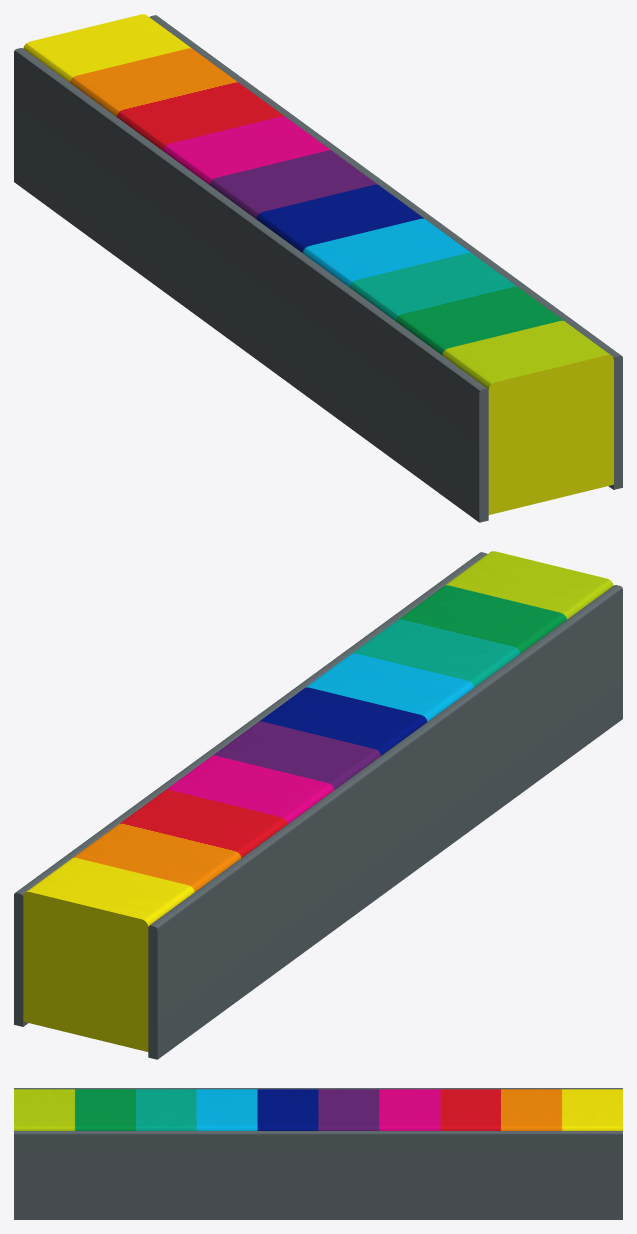
File: FloorFBX.fbx
The picture shows the model from 3 angles, top to bottom: view 1: azimuth 30°, elevation 25°; view 2: azimuth 150°, elevation 25°; view 3: azimuth 270°, elevation 25°; orthographic projection. The views are drawn at different scales.
Visible parts, largest first — view 1: polySurface159; view 2: polySurface159; view 3: polySurface159.
Part boxes in pixels (box(x1,y1,x2,y2)): polySurface159: box(14, 14, 622, 522); polySurface159: box(14, 551, 622, 1059); polySurface159: box(14, 1088, 622, 1219).
Bounding box in the file's own units: 53.09 × 48.29 × 298.
Materials: 2 (2 with a texture image).
